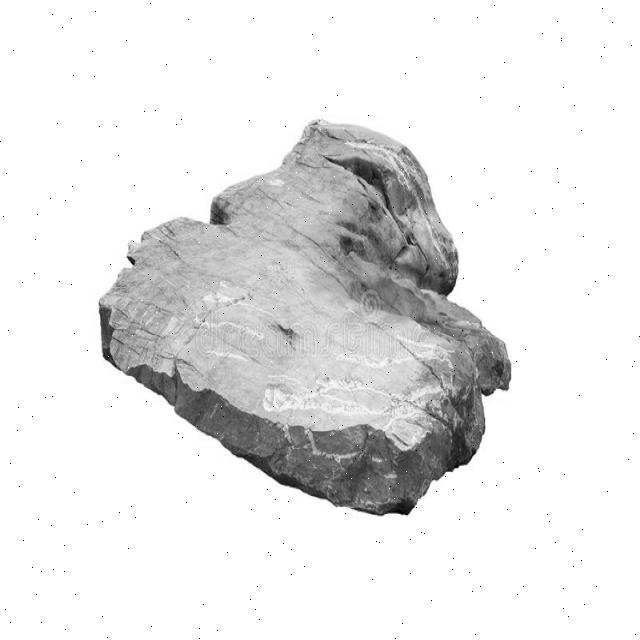Sedimentary: (99, 110, 526, 508)
